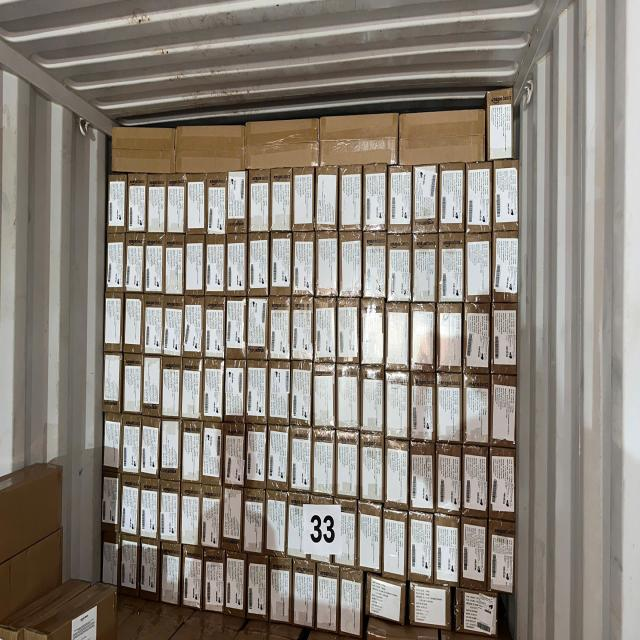Carton: (401, 110, 486, 164), (319, 114, 399, 166), (247, 121, 320, 169), (176, 124, 246, 174), (111, 124, 177, 175), (366, 570, 406, 626), (485, 89, 515, 161), (490, 303, 520, 375), (456, 586, 500, 634), (409, 582, 453, 628), (491, 231, 519, 303), (463, 304, 491, 376), (490, 376, 518, 448), (488, 521, 516, 593), (437, 301, 463, 376), (413, 162, 440, 234), (411, 234, 439, 303), (409, 303, 436, 374), (411, 372, 437, 444), (490, 448, 516, 520), (494, 161, 520, 232), (384, 438, 410, 509), (466, 164, 492, 234), (384, 370, 410, 440), (437, 374, 463, 444), (465, 374, 490, 446), (359, 367, 385, 436), (436, 445, 462, 514), (436, 514, 460, 588), (409, 511, 434, 582), (441, 164, 466, 234), (388, 231, 412, 303), (461, 522, 487, 588), (466, 235, 490, 305), (385, 301, 409, 371), (384, 510, 408, 580), (314, 564, 338, 634), (364, 164, 388, 233), (363, 231, 387, 300), (440, 235, 464, 304), (338, 566, 361, 638), (311, 497, 336, 563), (464, 448, 487, 519), (388, 166, 412, 234), (338, 164, 362, 232), (337, 296, 361, 364), (336, 432, 360, 500), (334, 498, 358, 566), (361, 434, 384, 504), (411, 445, 435, 512), (269, 296, 293, 362), (360, 300, 384, 366), (312, 431, 336, 497), (290, 561, 314, 627), (313, 364, 337, 429), (267, 558, 291, 623), (314, 298, 337, 365), (337, 365, 360, 432), (359, 504, 381, 574), (290, 359, 312, 428), (291, 170, 315, 233), (201, 483, 221, 558), (316, 231, 338, 299), (292, 296, 314, 364), (340, 232, 362, 299), (290, 425, 312, 492), (244, 491, 266, 558), (247, 296, 269, 362), (266, 490, 288, 556), (203, 297, 226, 359), (245, 556, 268, 618), (290, 492, 310, 562), (181, 484, 201, 554), (165, 173, 187, 236), (225, 296, 247, 359), (292, 233, 314, 295), (269, 362, 290, 426), (268, 424, 288, 491), (222, 488, 242, 555), (159, 478, 179, 544), (140, 477, 160, 543), (203, 556, 225, 616), (317, 166, 337, 231), (162, 356, 182, 421), (272, 168, 292, 232), (228, 170, 248, 234), (228, 234, 248, 298), (247, 234, 267, 298), (270, 233, 290, 297), (184, 298, 204, 362), (182, 418, 202, 482), (203, 422, 223, 486), (222, 427, 244, 485), (250, 170, 270, 233), (208, 172, 228, 235), (143, 294, 163, 356), (164, 297, 184, 359), (104, 352, 124, 414), (247, 363, 267, 425), (140, 417, 160, 479), (160, 543, 180, 605), (225, 556, 245, 618), (185, 237, 205, 298), (206, 236, 226, 297), (182, 358, 202, 419), (246, 427, 266, 488), (139, 539, 159, 600), (124, 294, 143, 358), (182, 551, 202, 611), (102, 411, 121, 473), (121, 476, 140, 538), (225, 362, 245, 420), (100, 530, 120, 588), (161, 417, 180, 478), (165, 235, 183, 298), (187, 173, 205, 235), (148, 174, 166, 236), (124, 356, 142, 418), (109, 175, 127, 236), (126, 233, 144, 294), (204, 361, 222, 422), (128, 174, 146, 234), (145, 235, 163, 295), (143, 356, 161, 416), (120, 534, 138, 594), (106, 236, 124, 294), (104, 297, 122, 355), (122, 416, 140, 474), (102, 476, 120, 534)
